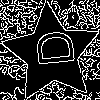D: (26, 28, 75, 69)
